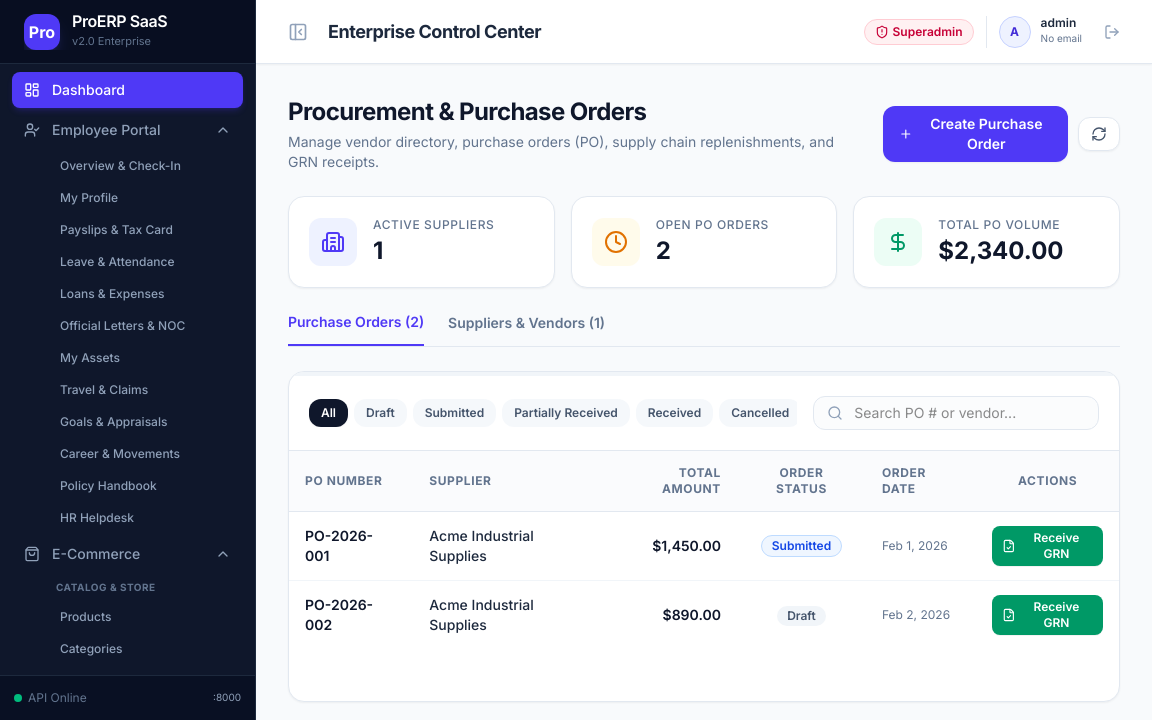
Scenario: Ecommerce Procurement & Transfers In-Place Filtering › renders procurement purchase orders and filters in-place
Expected: the text "PO-2026-001" is shown, [289,512,413,580]
Expected: the text "PO-2026-002" is shown, [289,580,413,649]
In the field with placeholder "Search PO # or vendor...": (956, 413) [813,396,1099,430], type "PO-2026-001"
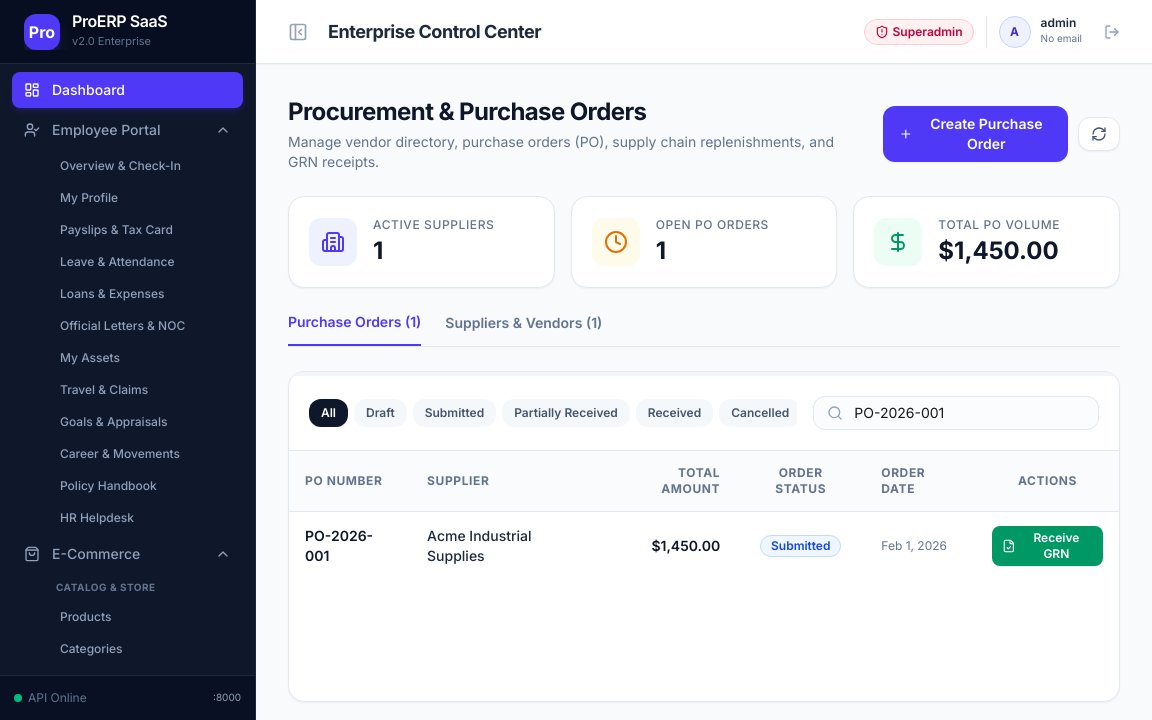
Expected: the text "PO-2026-001" is shown, [289,512,411,580]
Expected: the text "PO-2026-002" is gone
